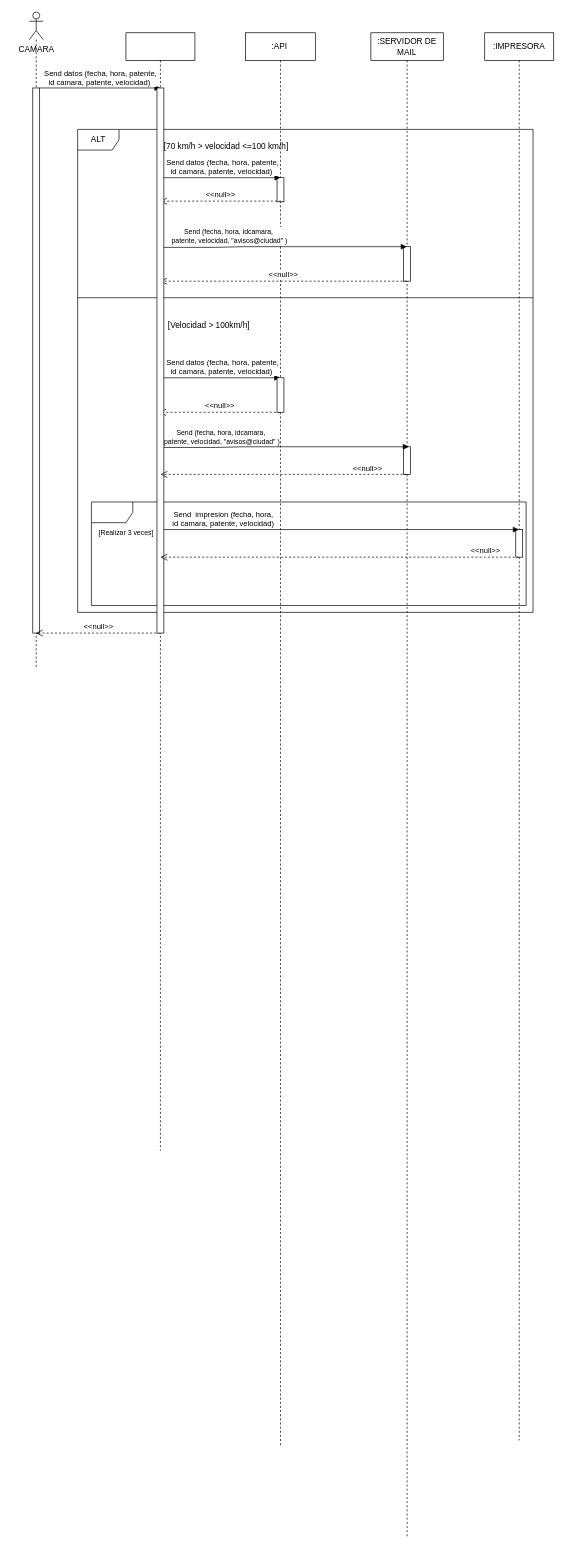
Some shapes in this 566 by 1549 pixel diagram are drawn without their labels. Here are the shapes that lost their labels. From the top down, the box of each, then its label:
(91, 501, 526, 605): LOOP
(125, 32, 195, 1151): :SISTEMA
